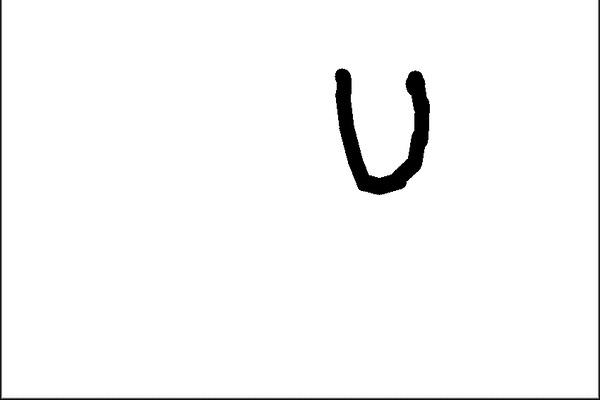U: (329, 65, 434, 198)
